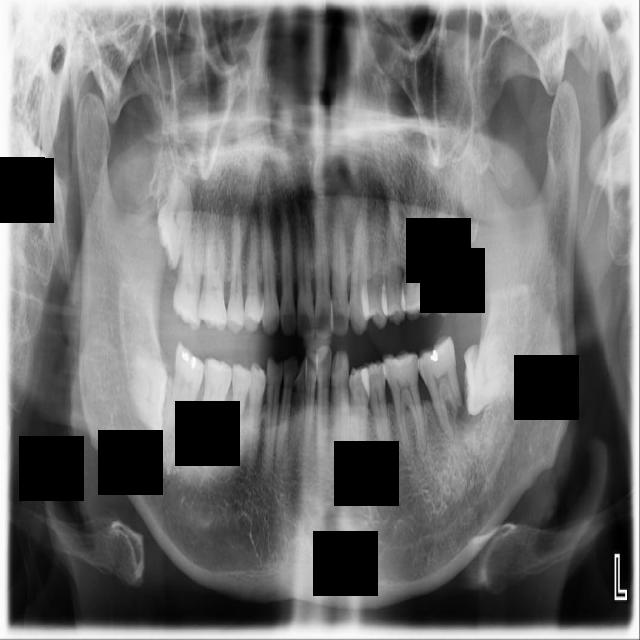3M ESPE Implant: (147, 165, 196, 273)
52: (405, 330, 467, 389), (163, 341, 215, 391)
73: (595, 578, 606, 590)
BioHorizons Implant: (432, 201, 464, 318)
Biomet 3i Implant: (463, 343, 508, 417)
Blue Sky Bio Implant: (414, 334, 467, 441)
Caries: (172, 219, 204, 331)
Implant: (162, 340, 208, 451)
Keystone Dental Implant: (126, 350, 170, 433)
